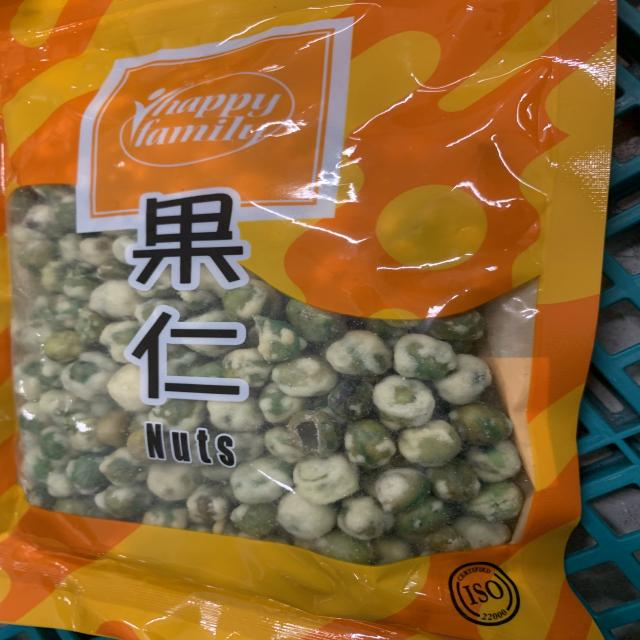object_name: (0, 0, 563, 640)
